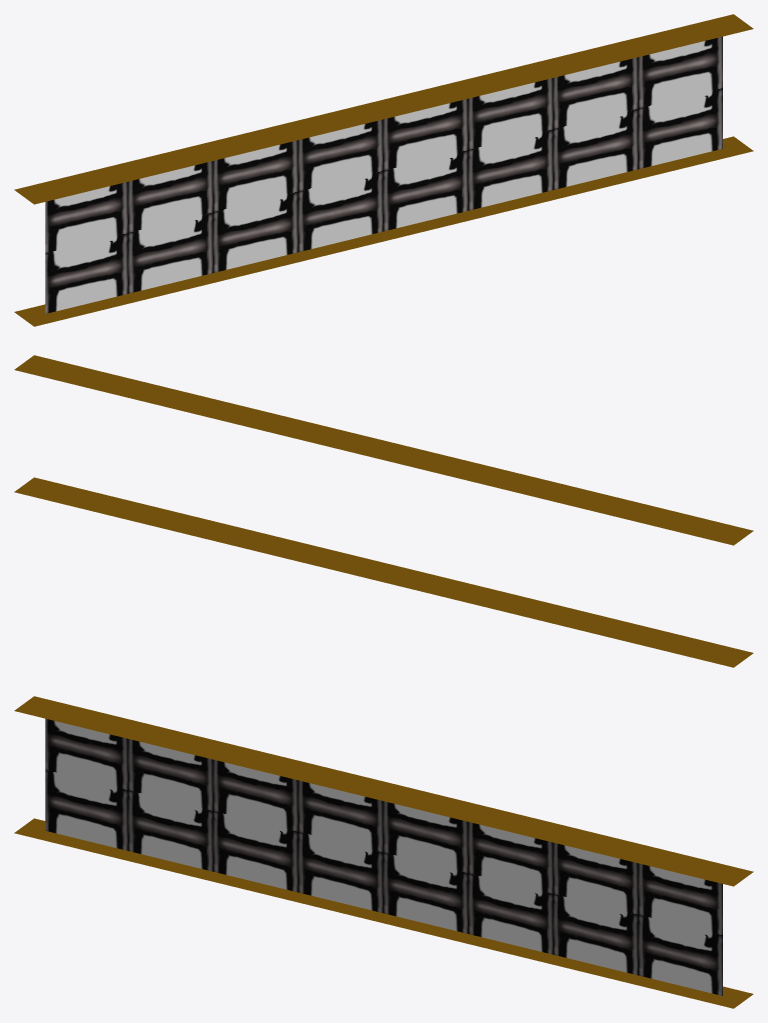
Rendered from Geländer2_1152.glb.
3 views of the same model, one above another, from view 1: azimuth 30°, elevation 25°; view 2: azimuth 150°, elevation 25°; view 3: azimuth 330°, elevation 25° (orthographic).
Parts seen in each view (by area): view 1: pPlaneShape223, pPlaneShape224, pPlaneShape225; view 2: pPlaneShape224, pPlaneShape225; view 3: pPlaneShape223, pPlaneShape224, pPlaneShape225.
Boxes of the visible parts, x1,y1,x2,y2 form: pPlaneShape223: (45,36,722,313); pPlaneShape224: (14,14,753,204); pPlaneShape225: (14,136,753,326); pPlaneShape224: (14,355,753,545); pPlaneShape225: (14,477,753,667); pPlaneShape223: (45,718,722,995); pPlaneShape224: (14,696,753,886); pPlaneShape225: (14,818,753,1008).
Size of the model in its own units: 0.5 by 0.0811 by 0.0243.
Materials: 3 (1 with a texture image).
